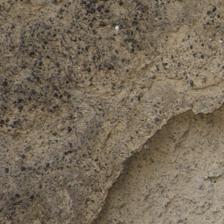Crack: (90, 101, 222, 220)
